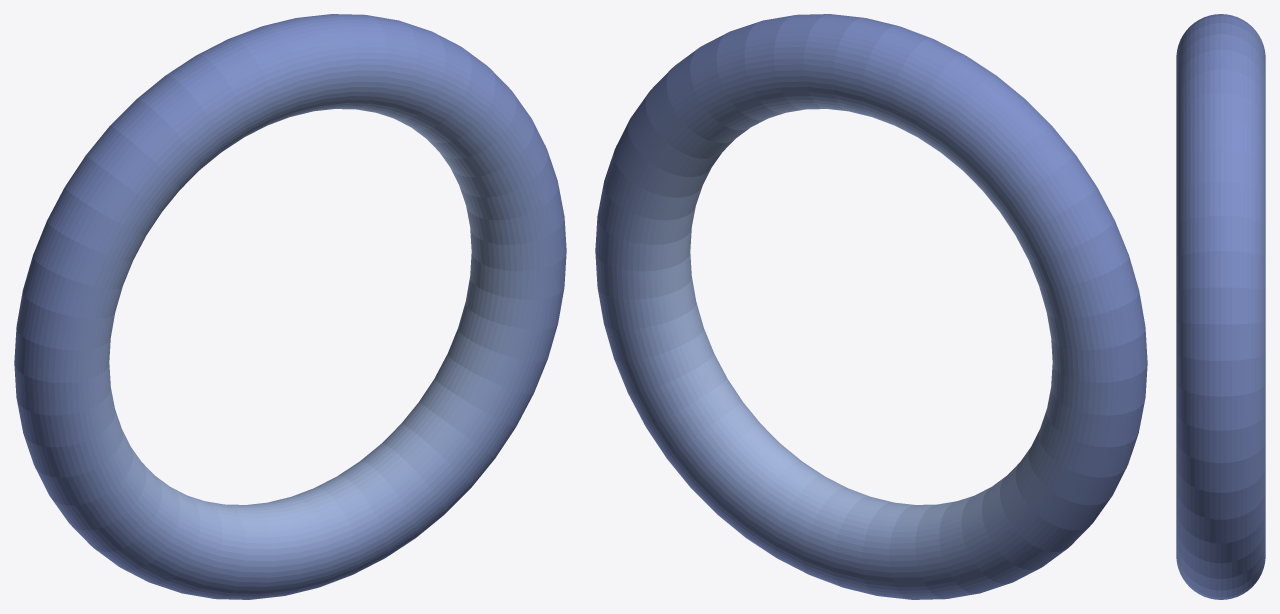
The picture shows the model from 3 angles, left to right: view 1: azimuth 30°, elevation 25°; view 2: azimuth 150°, elevation 25°; view 3: azimuth 270°, elevation 25°; orthographic projection. The views are drawn at different scales.
Visible parts, largest first — view 1: world; view 2: world; view 3: world.
Part boxes in pixels (box(x1,y1,x2,y2)): world: box(14, 14, 566, 599); world: box(595, 14, 1147, 599); world: box(1176, 14, 1265, 599).
Size of the model in its own units: 23.6 by 23.55 by 3.59.
